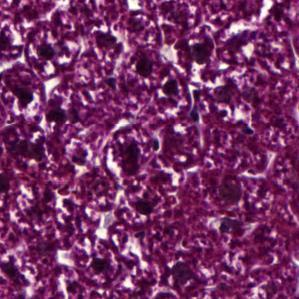inflammation: (88, 24, 133, 66), (103, 137, 146, 180), (24, 39, 63, 80), (8, 81, 45, 122), (190, 61, 232, 95), (106, 247, 146, 280), (51, 191, 81, 217)
